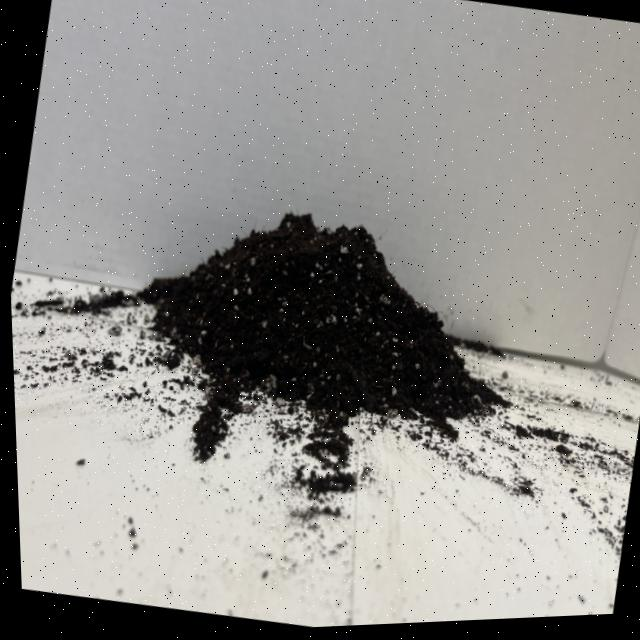soil: (103, 145, 547, 519)
